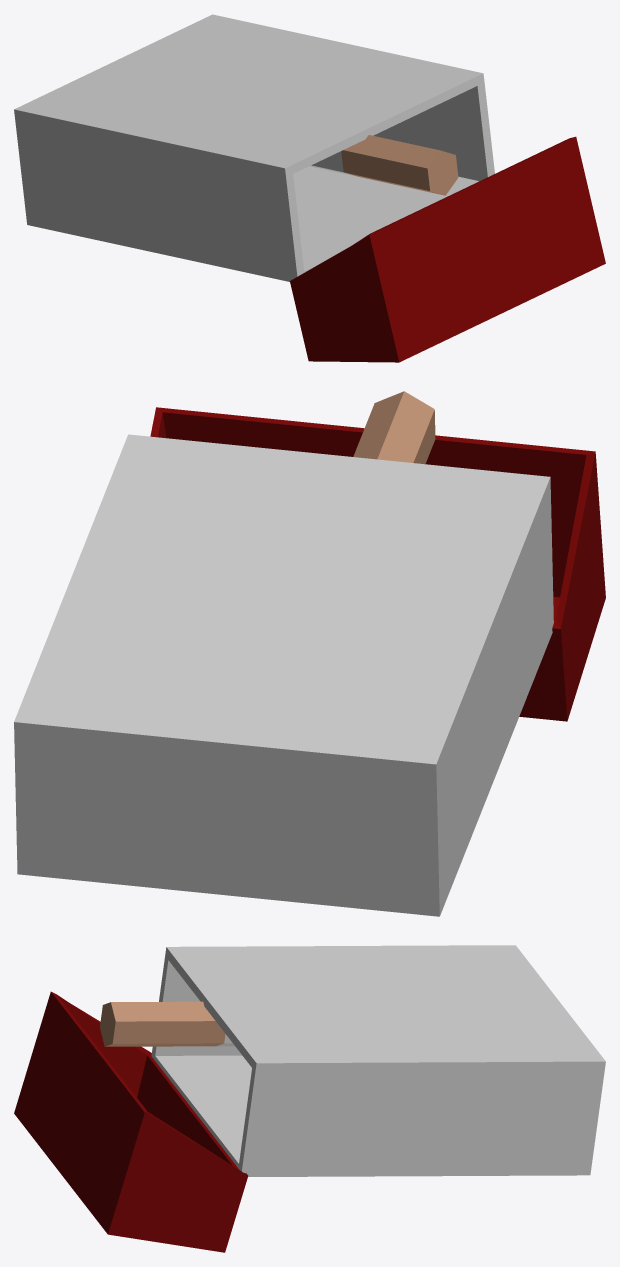
Rendered from cig pack.fbx.
3 views of the same model, one above another, from view 1: azimuth 30°, elevation 25°; view 2: azimuth 150°, elevation 25°; view 3: azimuth 270°, elevation 25° (orthographic). The views are drawn at different scales.
Parts seen in each view (by area): view 1: Cube.058, cigarette pack, cigarette; view 2: Cube.058, cigarette pack, cigarette; view 3: Cube.058, cigarette pack, cigarette.
Part boxes in pixels (box(x1,y1,x2,y2)): Cube.058: box(14, 14, 494, 281); cigarette pack: box(290, 136, 605, 362); cigarette: box(310, 135, 458, 195); Cube.058: box(14, 434, 553, 916); cigarette pack: box(150, 407, 605, 721); cigarette: box(353, 391, 435, 464); Cube.058: box(151, 945, 605, 1176); cigarette pack: box(14, 991, 248, 1252); cigarette: box(100, 1001, 234, 1046).
Size of the model in its own units: 6.12 by 2.84 by 8.07.
